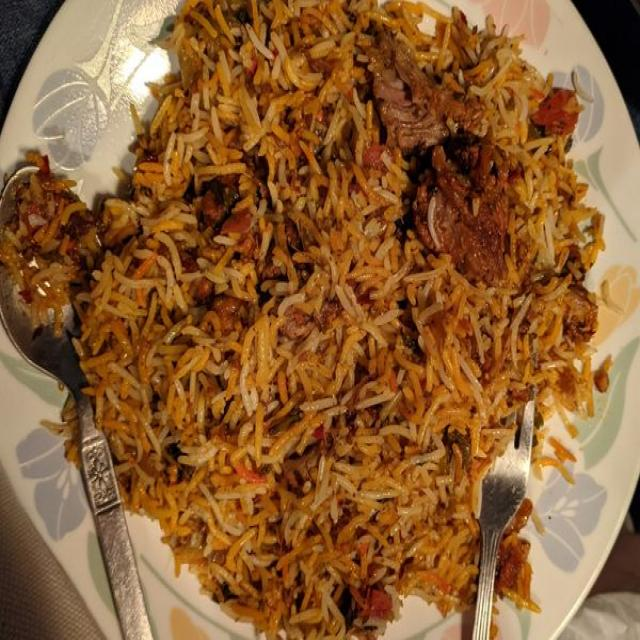Biryani: (98, 12, 580, 640)
